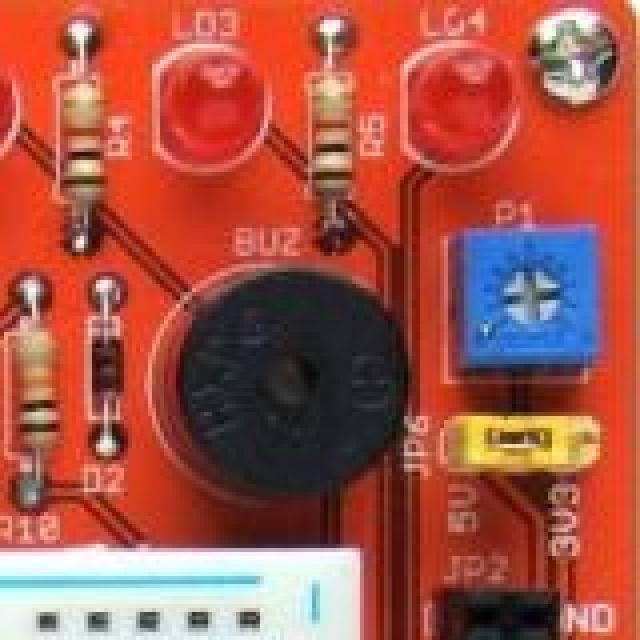LED: (400, 48, 516, 162), (152, 52, 272, 160), (0, 48, 12, 168)
buzzer: (168, 240, 416, 498)
connector: (0, 556, 360, 640), (452, 420, 592, 488), (444, 592, 548, 640)
diode: (84, 300, 136, 444)
potentiometer: (460, 226, 603, 366)
resistor: (0, 280, 58, 484), (308, 44, 372, 210), (56, 56, 114, 198)
